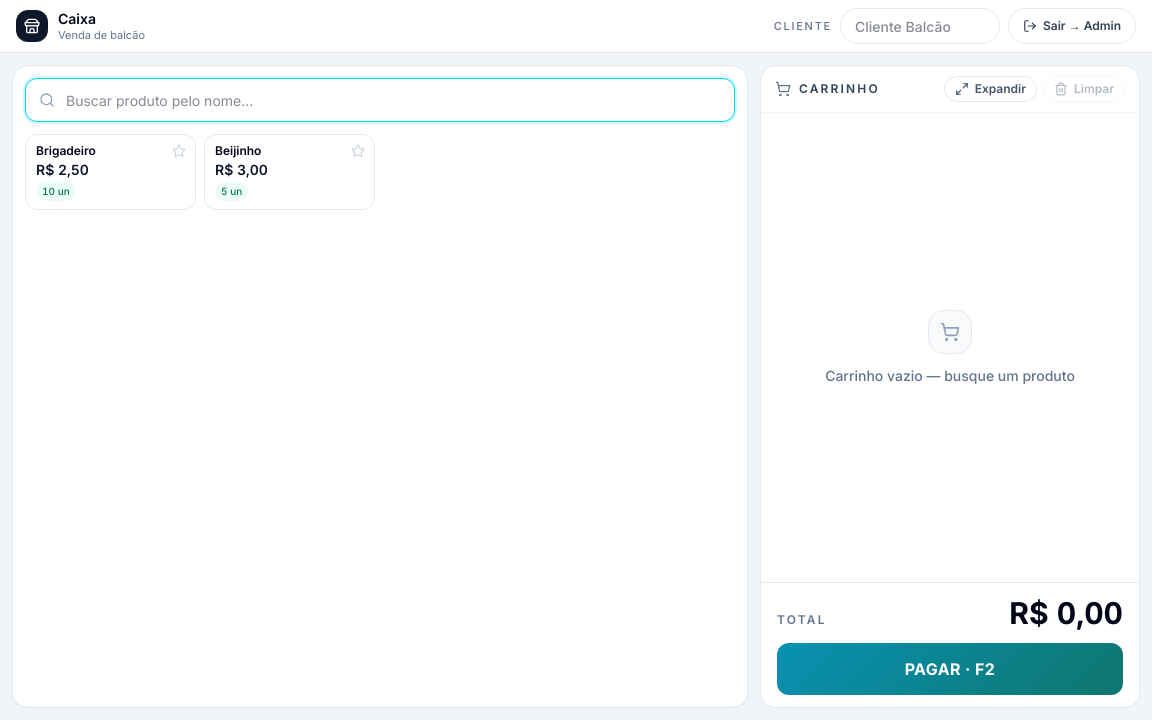
Test: CaixaPage — /pdv/caixa › carrinho expansível: abre overlay com todos os itens; −/+/remover funcionam; PAGAR no expandido abre o pagamento; fechar volta
# Dois itens no carrinho.
Click the button with aria-label "Adicionar Brigadeiro" at (110, 172), box [26,135,195,209]
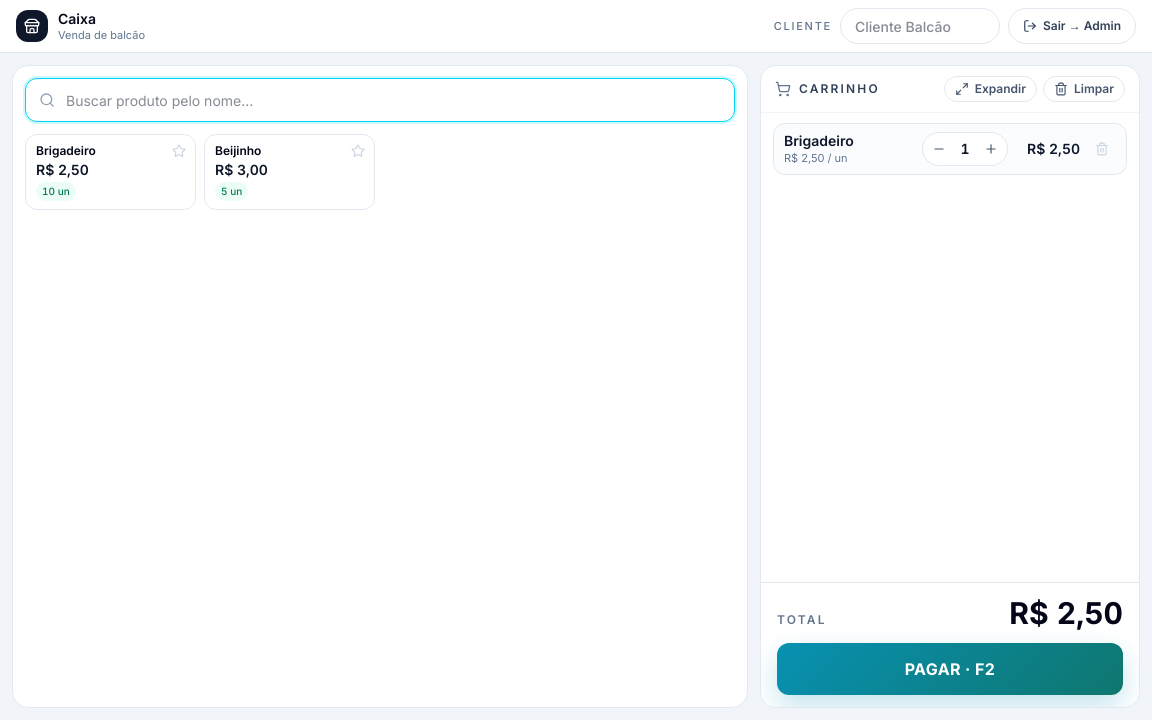
Click the button with aria-label "Adicionar Beijinho" at (290, 172), box [205,135,374,209]
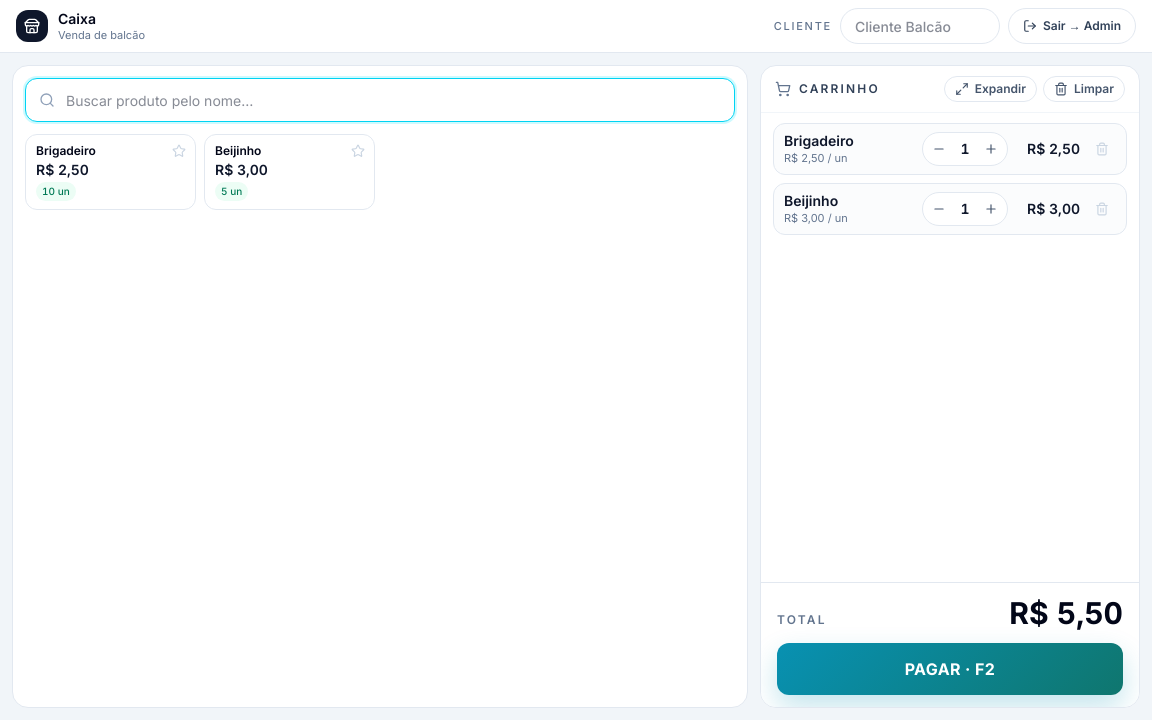
Click the button "Expandir" at (990, 89), box [944,76,1037,102]
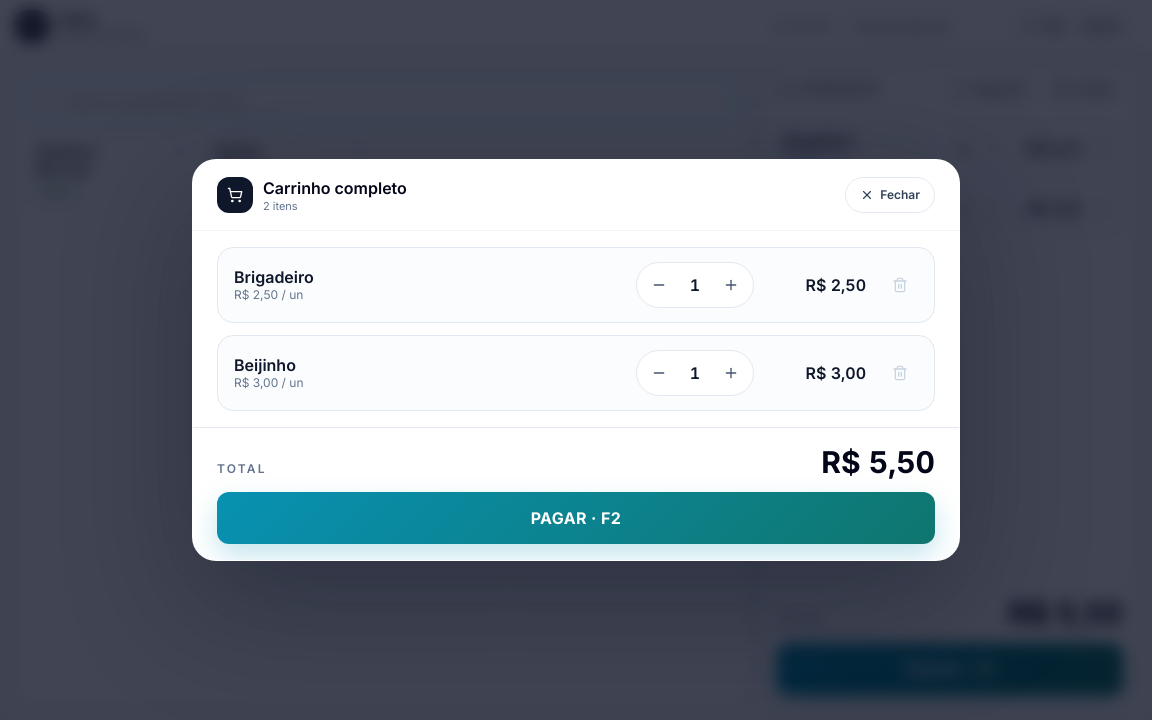
Now the number of list items with test id "pdv-cart-expanded-item" is 2, box [217,247,935,323]; [217,335,935,411]
Now the text "Brigadeiro" is shown, box [234,267,314,287]
Now the text "Beijinho" is shown, box [234,355,296,375]
Click the button named "aumentar brigadeiro" at (731, 285), box [713,267,749,303]
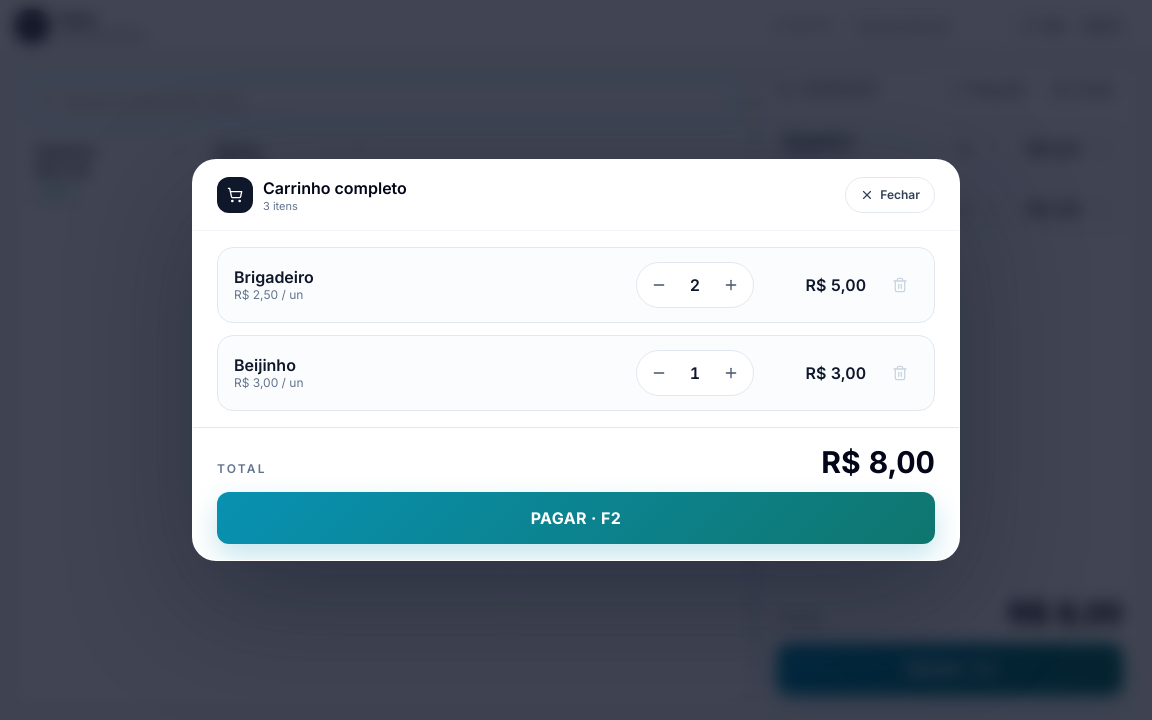
Now the text with test id "pdv-cart-expanded-item-qty" reads "2", box [690,275,700,295]
# Remover o Beijinho some do overlay (resta 1 item).
Click the button named "remover beijinho" at (900, 373), box [882,355,918,391]
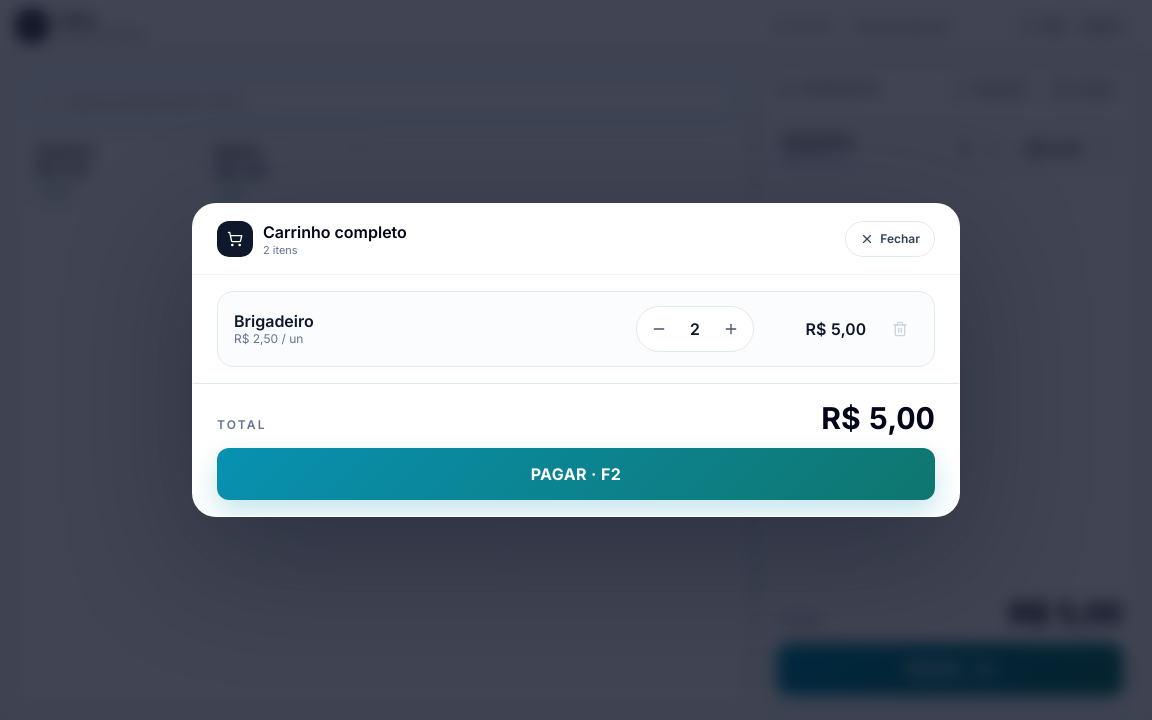
Now the number of list items with test id "pdv-cart-expanded-item" is 1, box [217,291,935,367]
# PAGAR no expandido fecha o overlay e abre o pagamento.
Click the button "PAGAR · F2" at (576, 474), box [217,448,935,500]
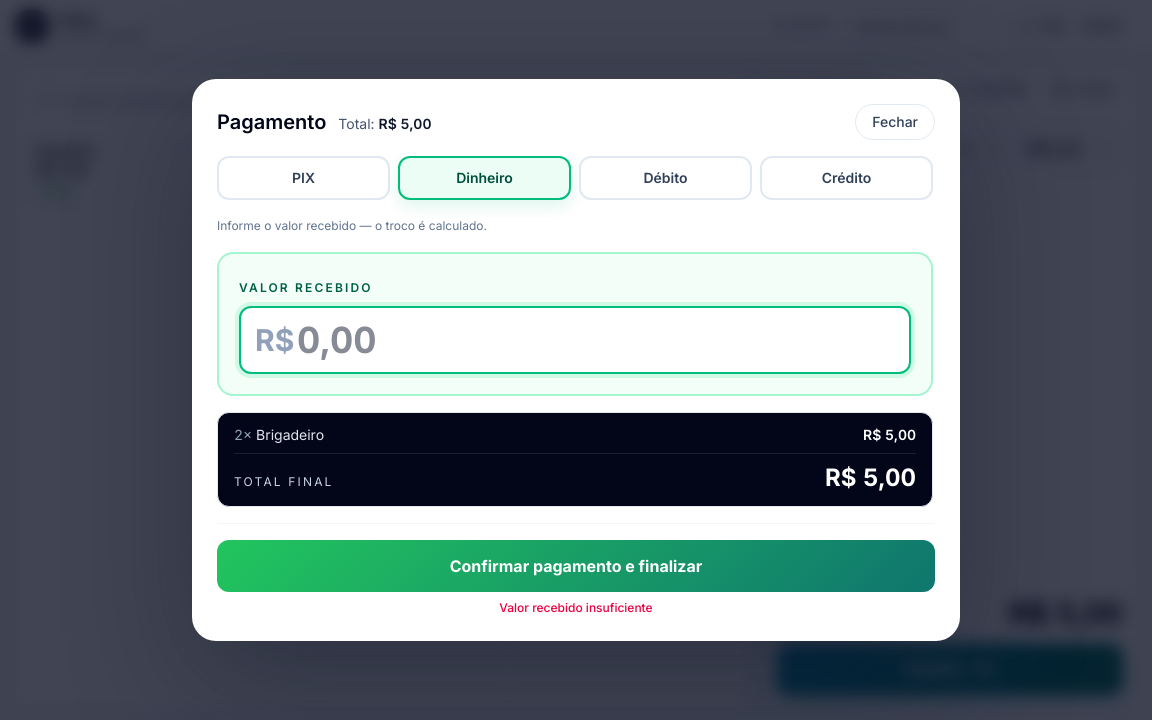
Now the heading "Carrinho completo" is gone
Now the heading "Pagamento" is shown, box [217,108,326,136]
